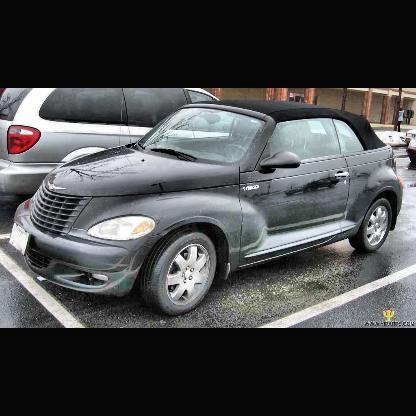Chrysler PT Cruiser Convertible 2008: (8, 102, 404, 316)
